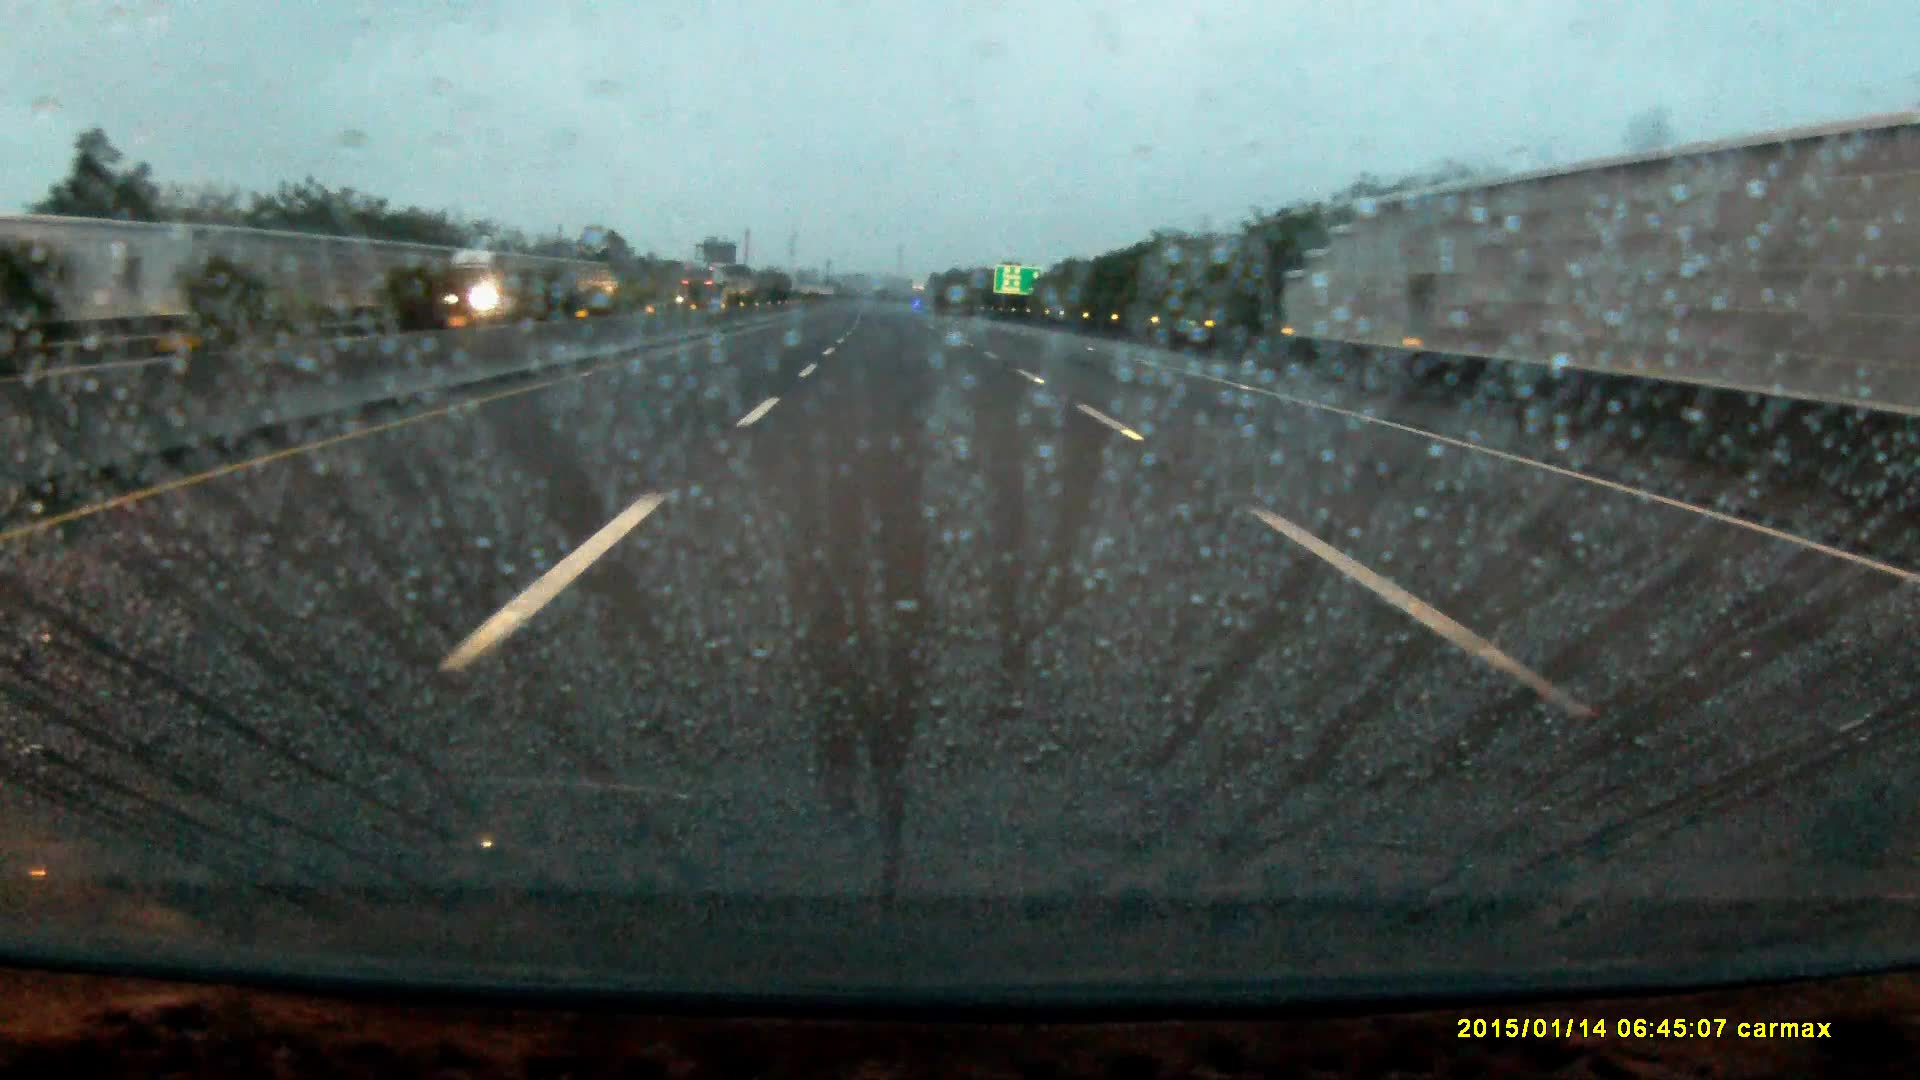vehicle: (444, 249, 541, 328), (683, 273, 729, 313)
